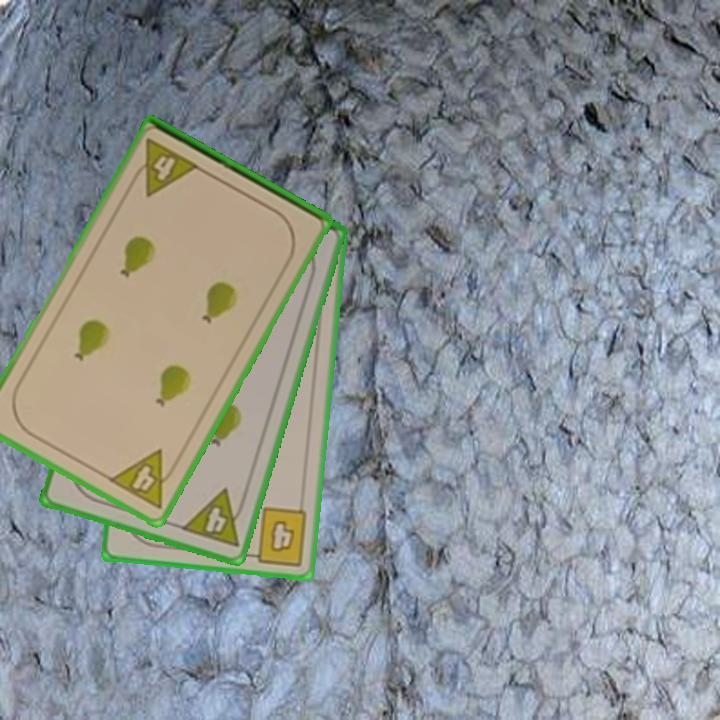4b: (242, 504, 311, 569)
4p: (105, 446, 183, 512), (126, 134, 203, 200), (177, 485, 250, 551)
